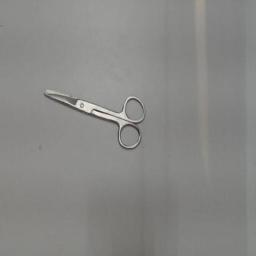Dressing Scissors: (37, 84, 149, 156)
